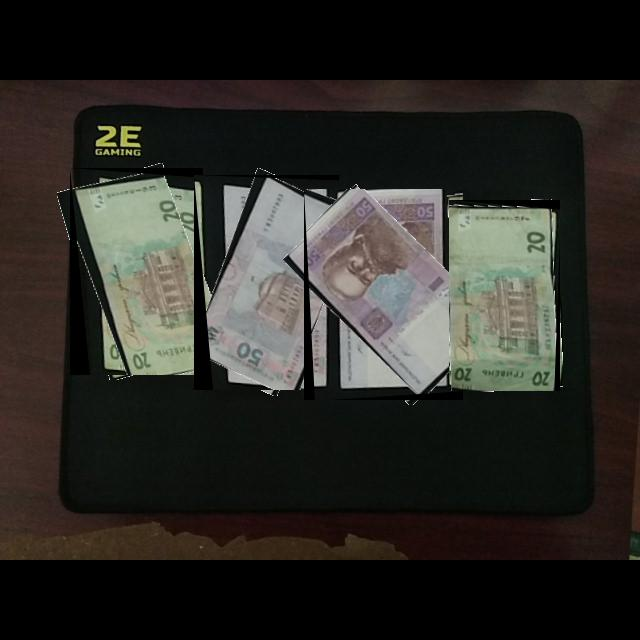20uah: (70, 168, 204, 376), (449, 200, 561, 392)
50uah: (304, 189, 464, 401), (194, 175, 340, 391)
